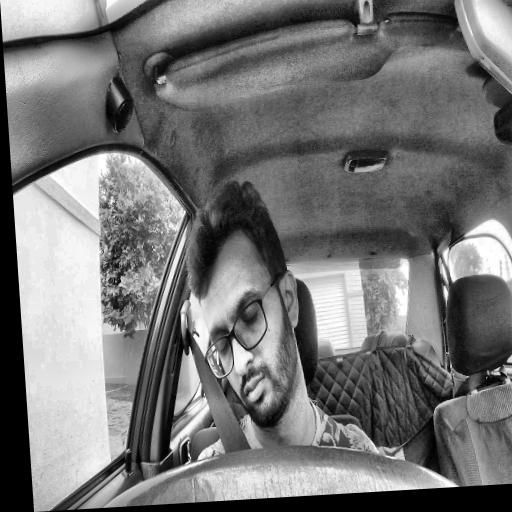drowsy: (181, 172, 307, 436)
